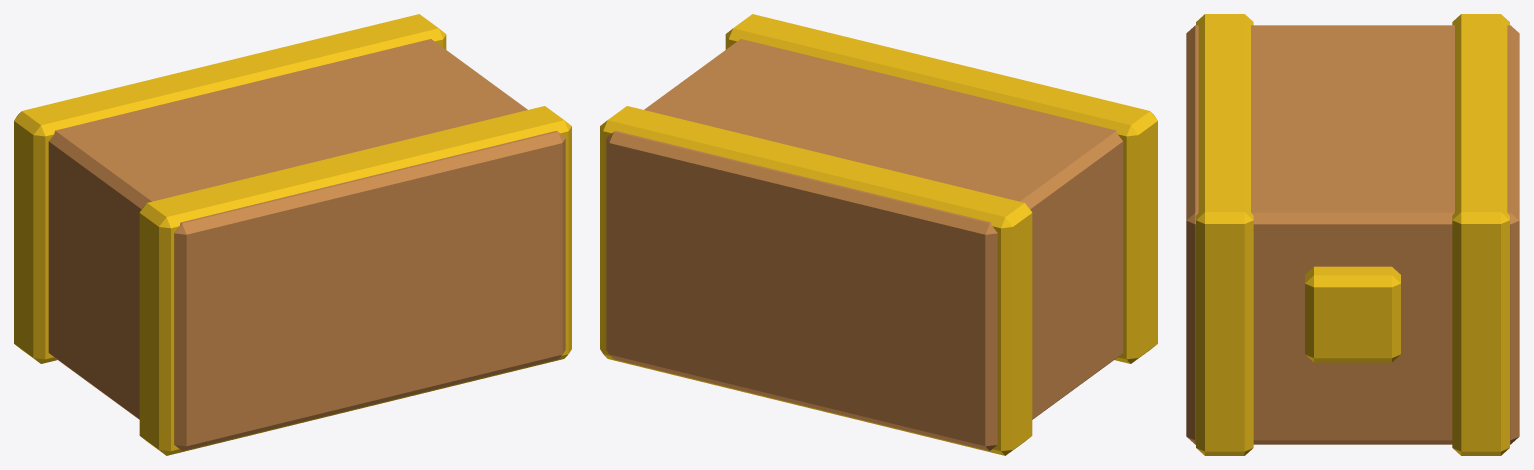
The model's file is chest_base.glb.
The picture shows the model from 3 angles, left to right: view 1: azimuth 30°, elevation 25°; view 2: azimuth 150°, elevation 25°; view 3: azimuth 270°, elevation 25°; orthographic projection. The views are drawn at different scales.
Parts seen in each view (by area): view 1: chest_base; view 2: chest_base; view 3: chest_base.
Boxes of the visible parts, <box> form: chest_base: <box>14,14,571,455</box>; chest_base: <box>600,14,1157,455</box>; chest_base: <box>1186,14,1519,455</box>.
Bounding box in the file's own units: 0.395 × 0.21 × 0.26.
